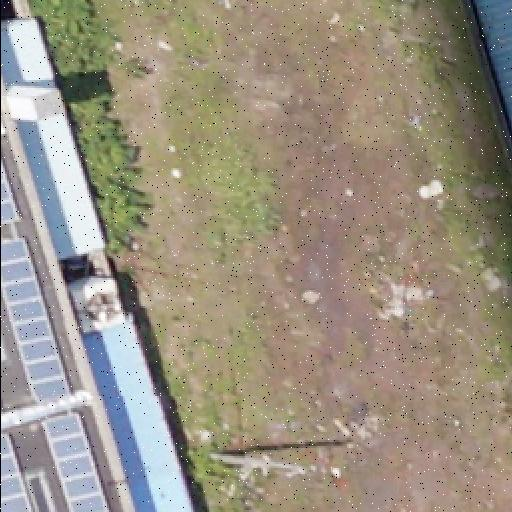solar-panel: (0, 236, 72, 408), (41, 412, 111, 512), (0, 433, 32, 511), (1, 158, 23, 226)
